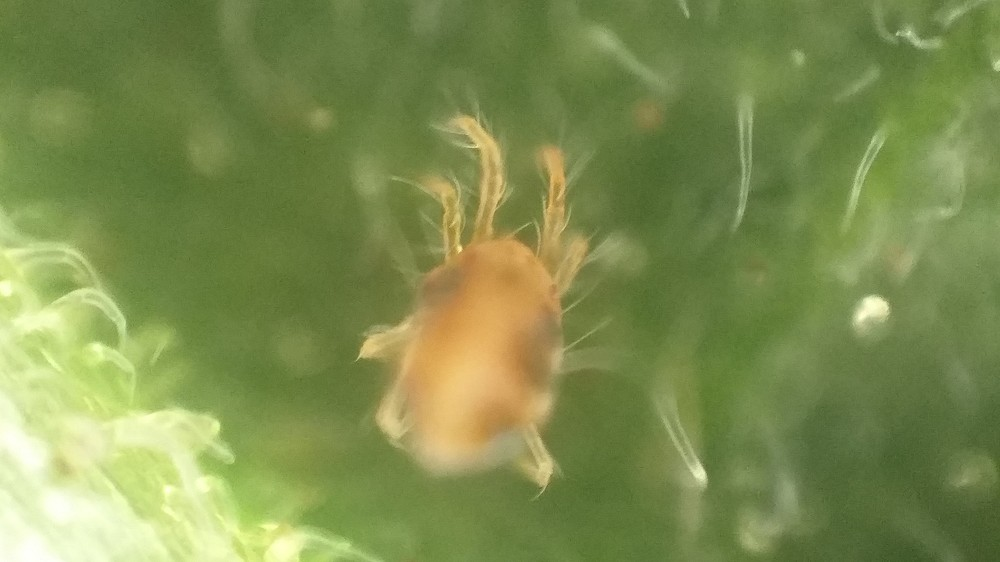Aracnido Rojo: (327, 105, 646, 514)
